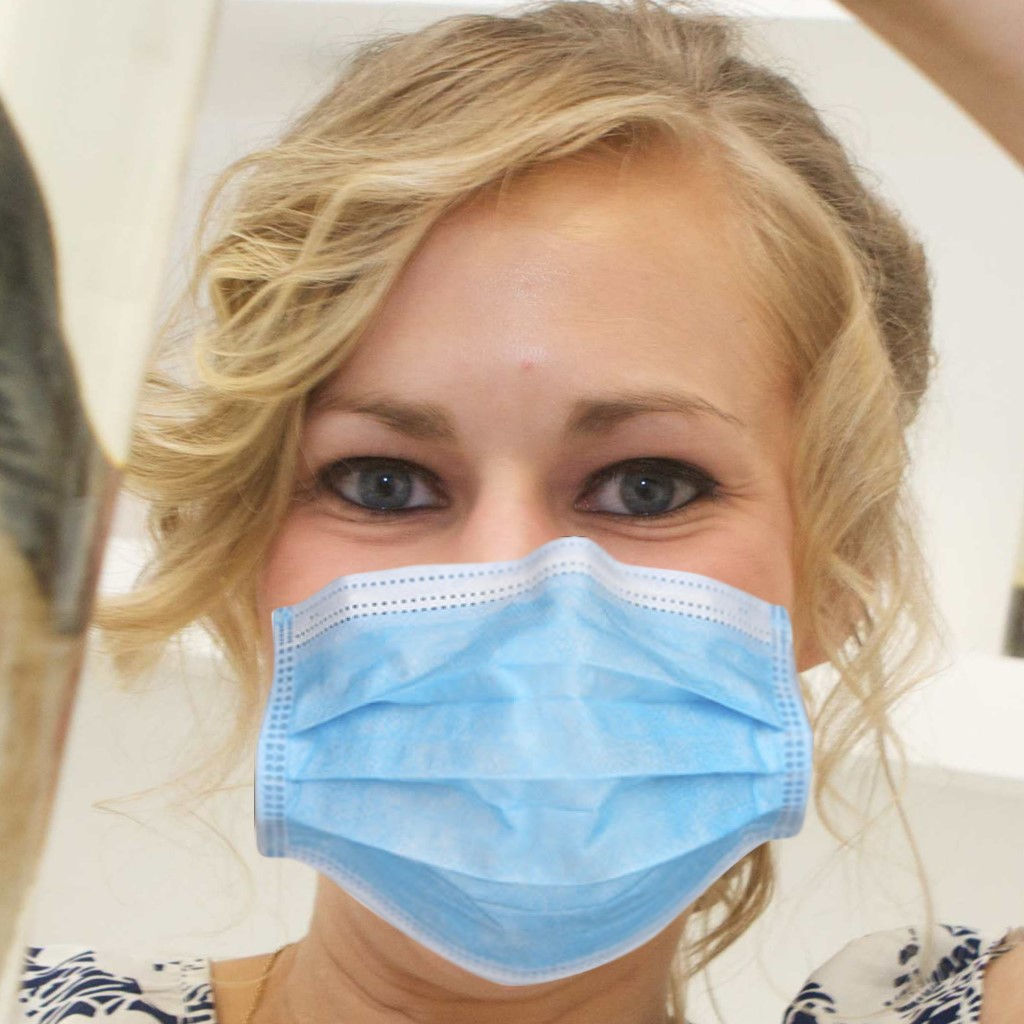con_mascara: (217, 180, 849, 978)
